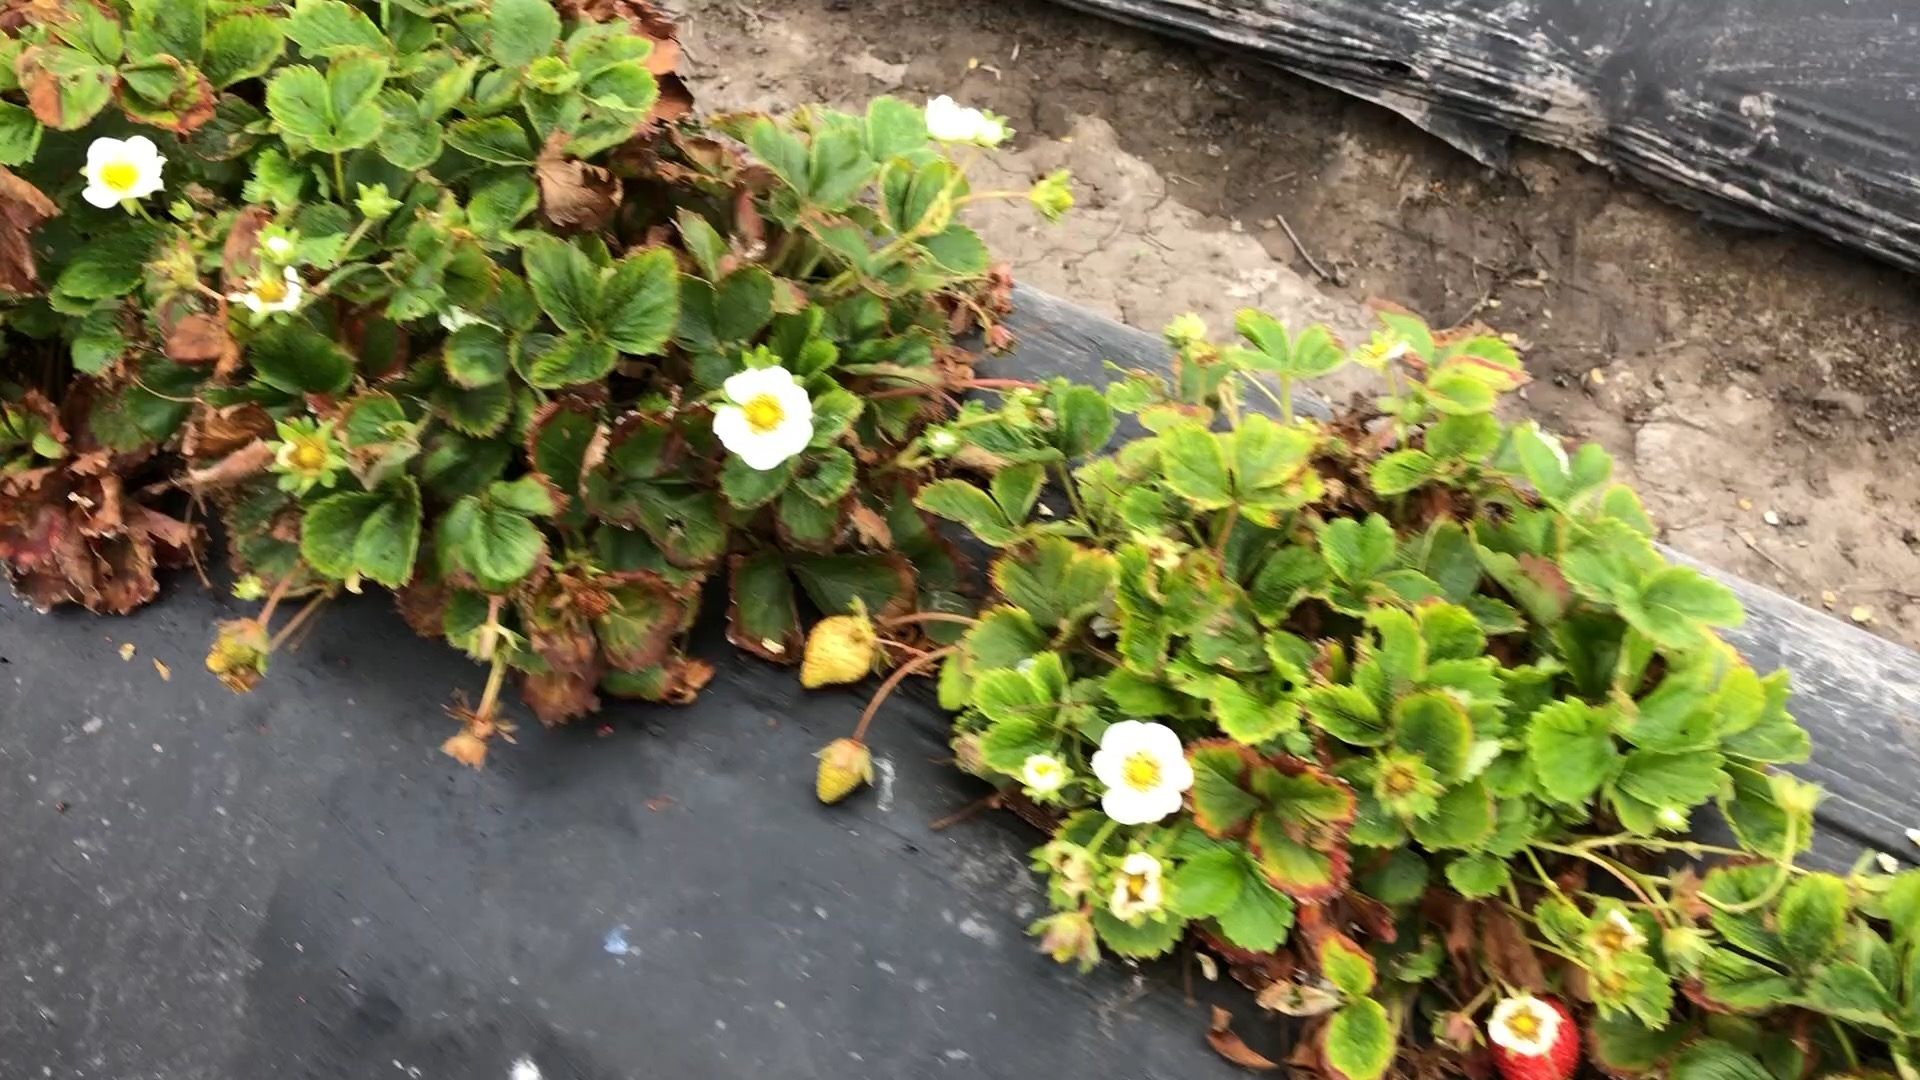ripe_strawberry: (1487, 992, 1586, 1080)
unripe_strawberry: (798, 607, 882, 698), (812, 732, 870, 808), (200, 612, 266, 679)
